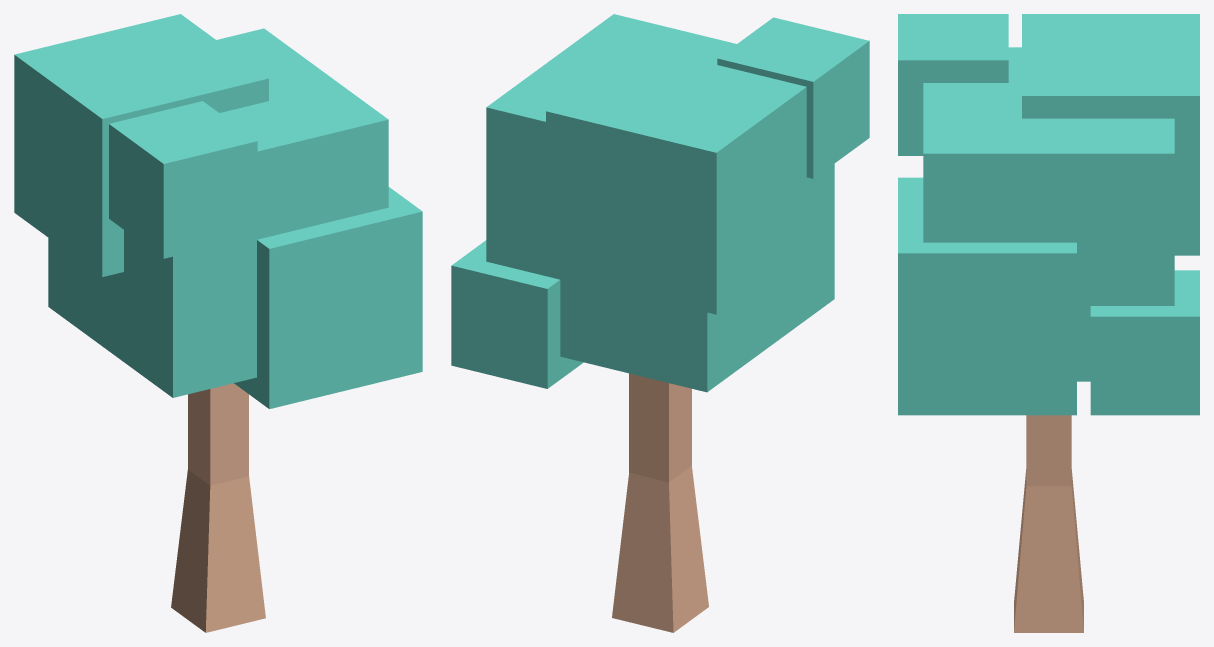
File: tree_blocks.glb
3 renders of one model, left to right at view 1: azimuth 30°, elevation 25°; view 2: azimuth 150°, elevation 25°; view 3: azimuth 270°, elevation 25°, orthographic. The views are drawn at different scales.
Parts seen in each view (by area): view 1: tree_blocks; view 2: tree_blocks; view 3: tree_blocks.
Boxes of the visible parts, left/top/right/bottom form: tree_blocks: left=14, top=14, right=422, bottom=632; tree_blocks: left=451, top=14, right=869, bottom=632; tree_blocks: left=898, top=14, right=1199, bottom=632.
Bounding box in the file's own units: 0.6 × 1.19 × 0.6.
1 material, 1 textured.
